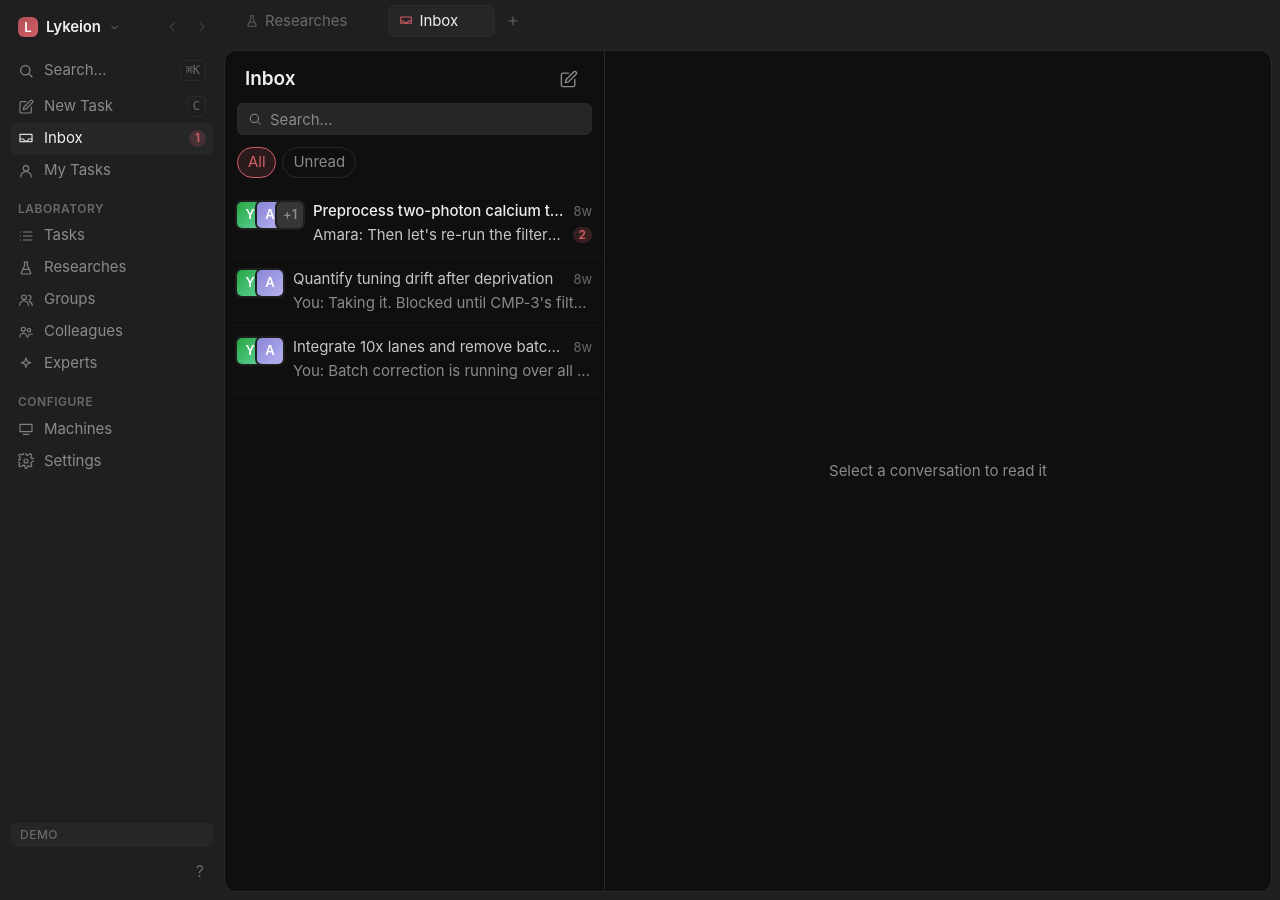
Test: posting a message appends it and re-previews the row
Click the link "Inbox 1".
click(112, 138)  # box x1=10 y1=122 x2=214 y2=154
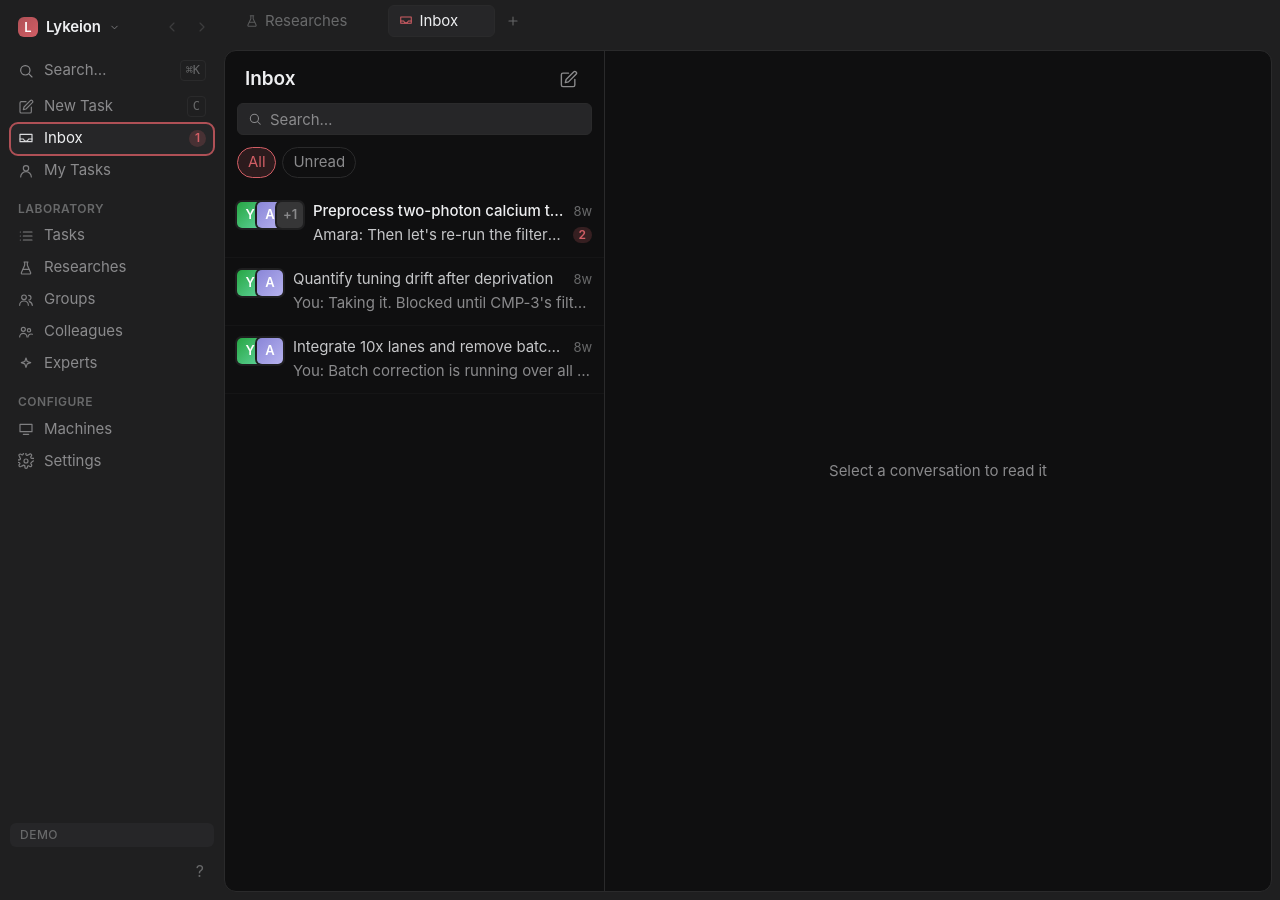
Click the text "Quantify tuning drift after deprivation".
click(429, 279)  # box x1=293 y1=268 x2=565 y2=290
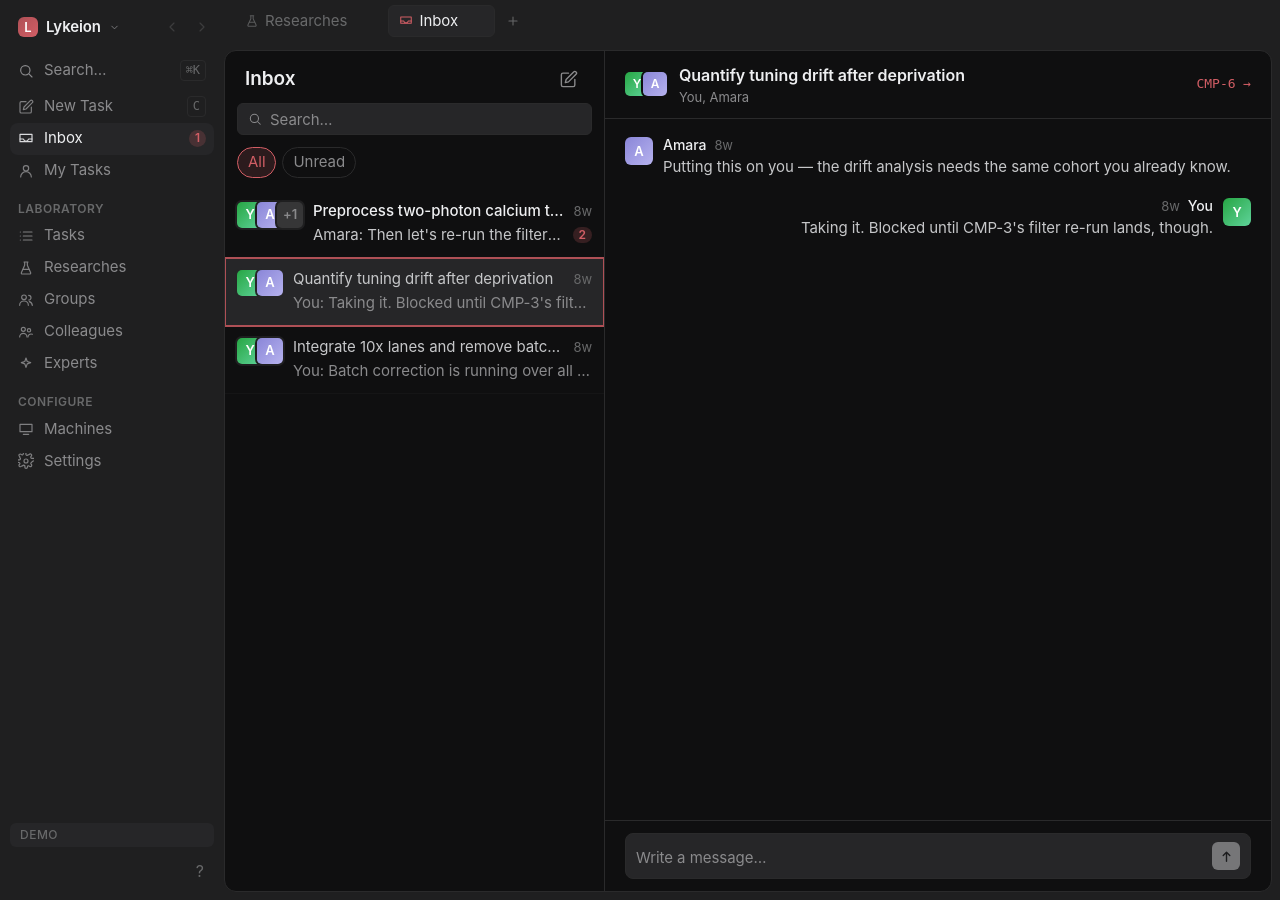
Type "Filter re-run is done — 384 it is." into the text box labelled "Write a message".
click(920, 858); type("Filter re-run is done — 384 it is.")  # box x1=636 y1=846 x2=1204 y2=870
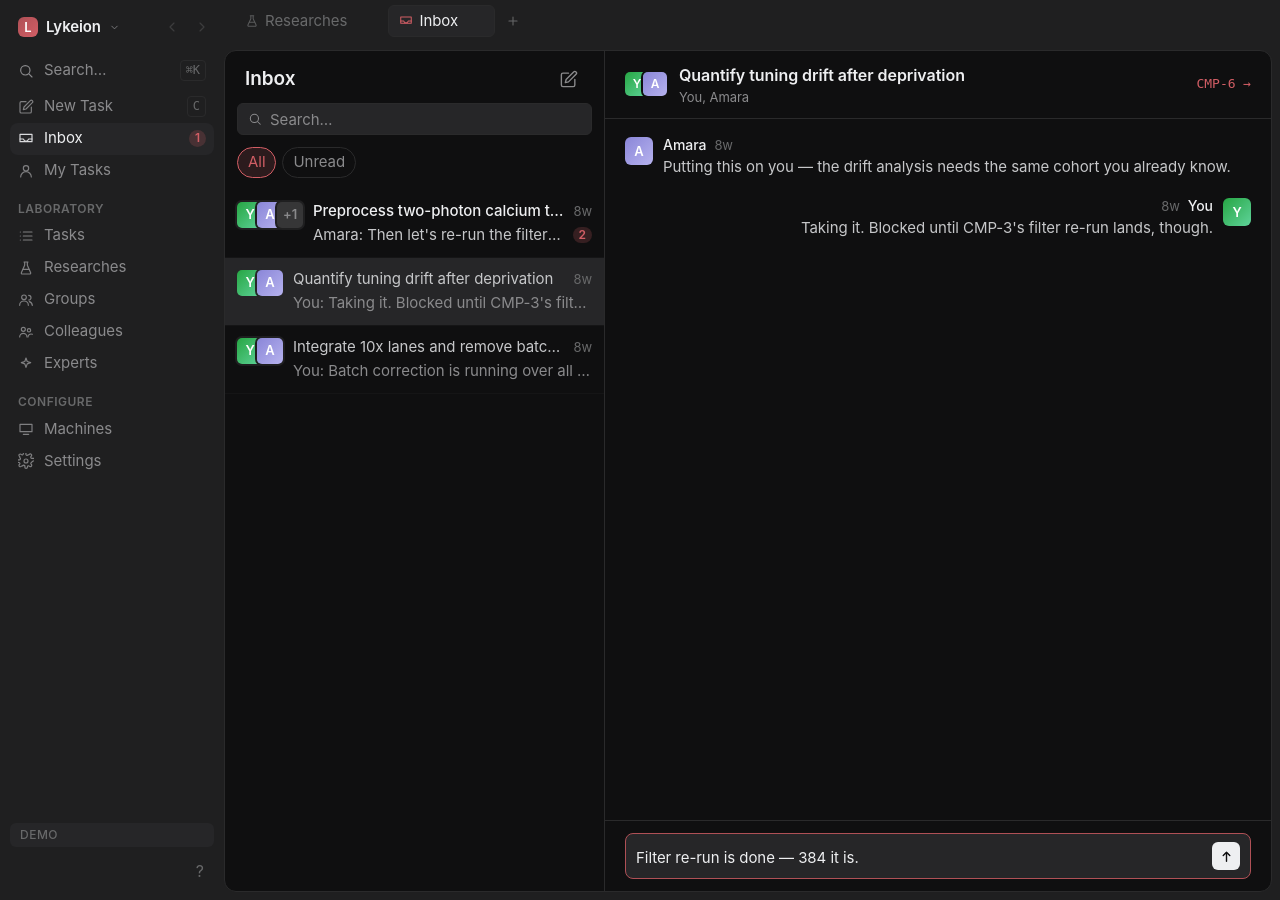
Click the button named "Send message".
click(1226, 856)  # box x1=1212 y1=842 x2=1240 y2=870
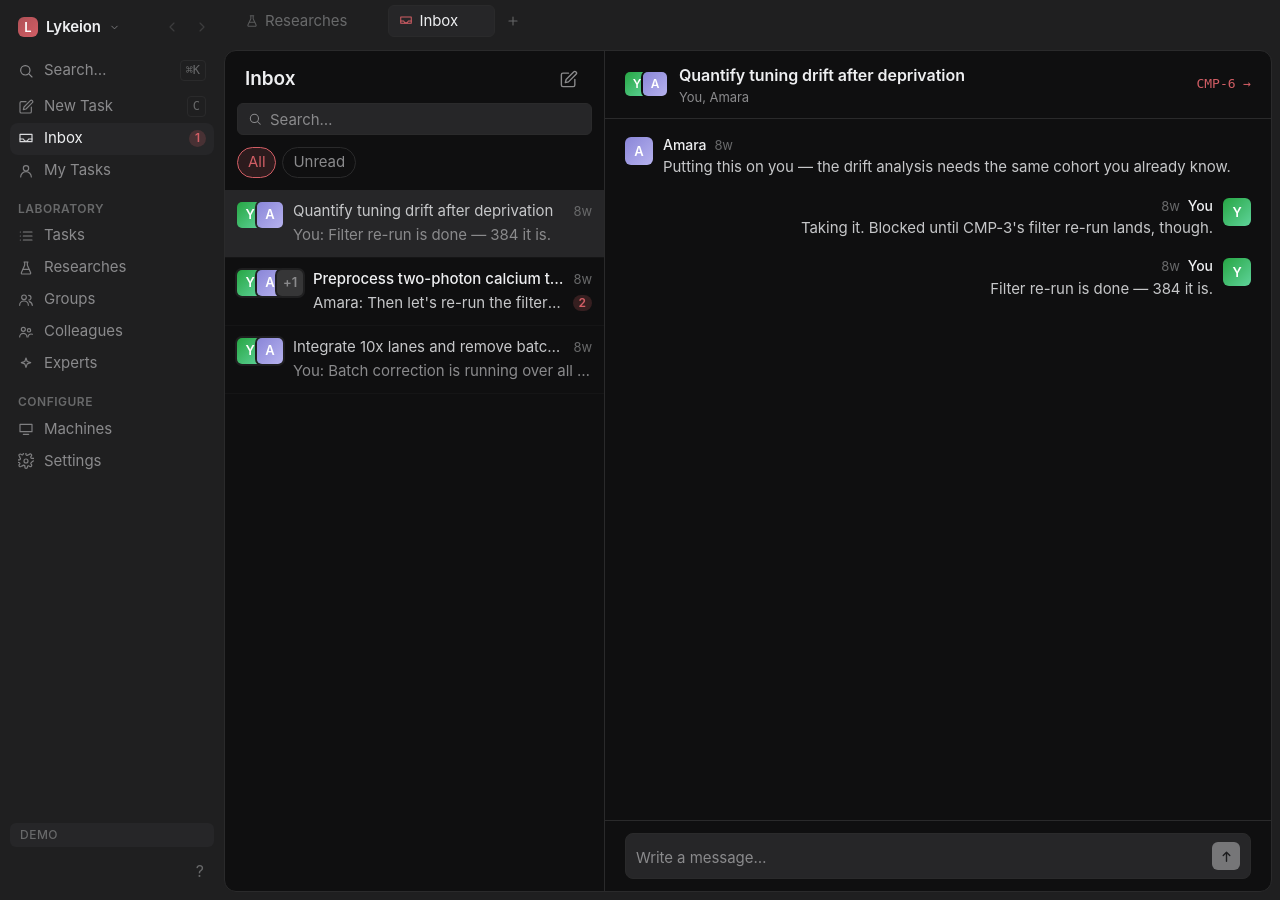
Expected: the text "Filter re-run is done — 384 it is." is shown, x1=990 y1=277 x2=1213 y2=301
Expected: the text "You: Filter re-run is done — 384 it is." is shown, x1=293 y1=224 x2=592 y2=246
